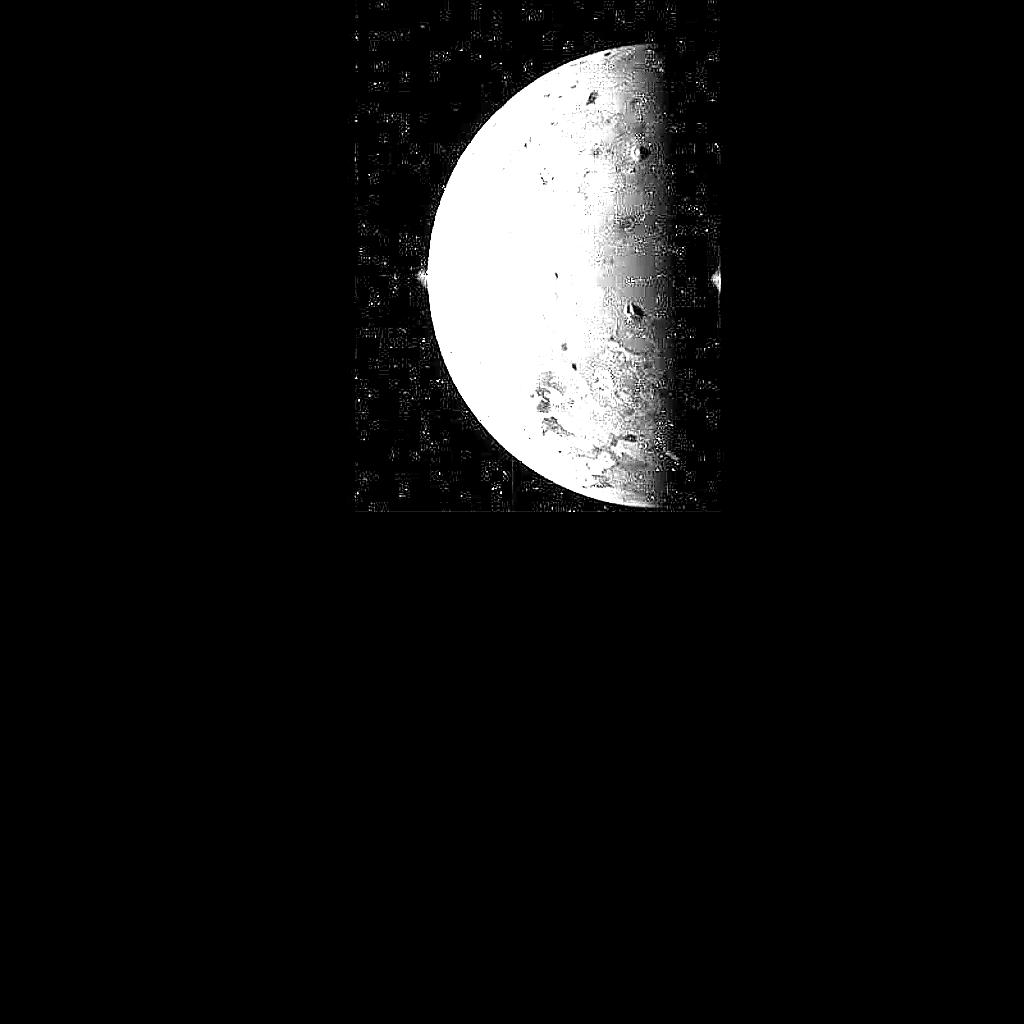plumes: (710, 265, 722, 298), (417, 268, 430, 288)
